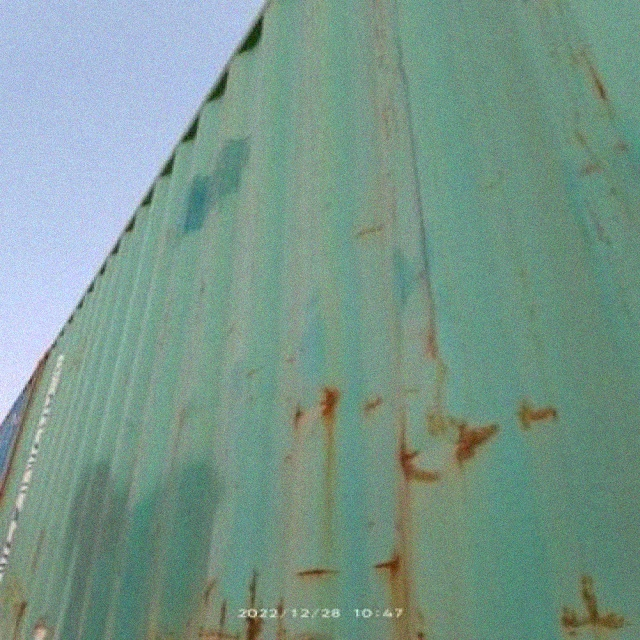Rusty: (397, 429, 445, 512), (453, 425, 499, 485), (317, 392, 354, 424), (529, 410, 563, 433), (363, 573, 428, 574)
